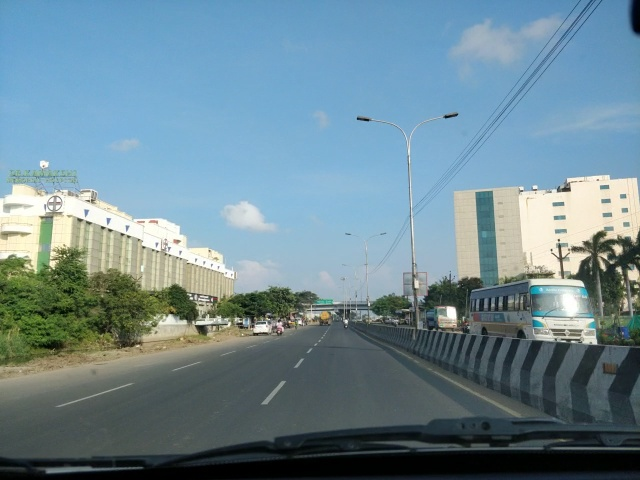bus: (468, 285, 598, 365)
car: (253, 316, 273, 338)
motorbike: (275, 314, 284, 336), (340, 315, 351, 332)
truck: (419, 302, 456, 339), (316, 309, 336, 327)
